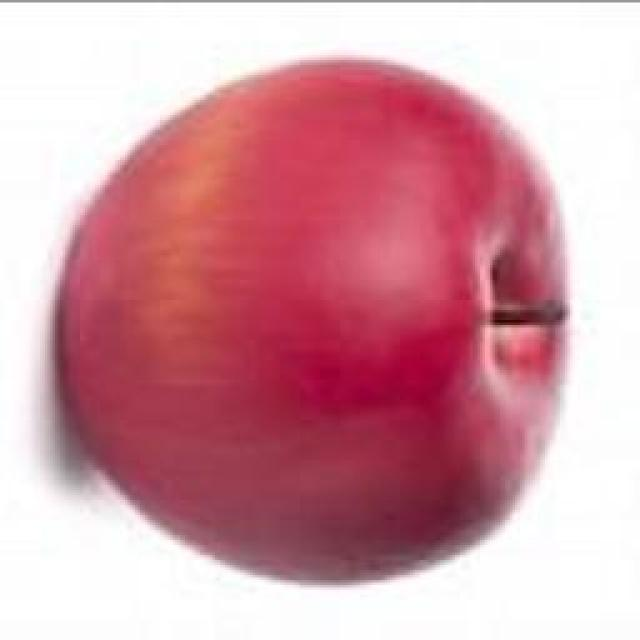apple: (51, 55, 570, 585)
